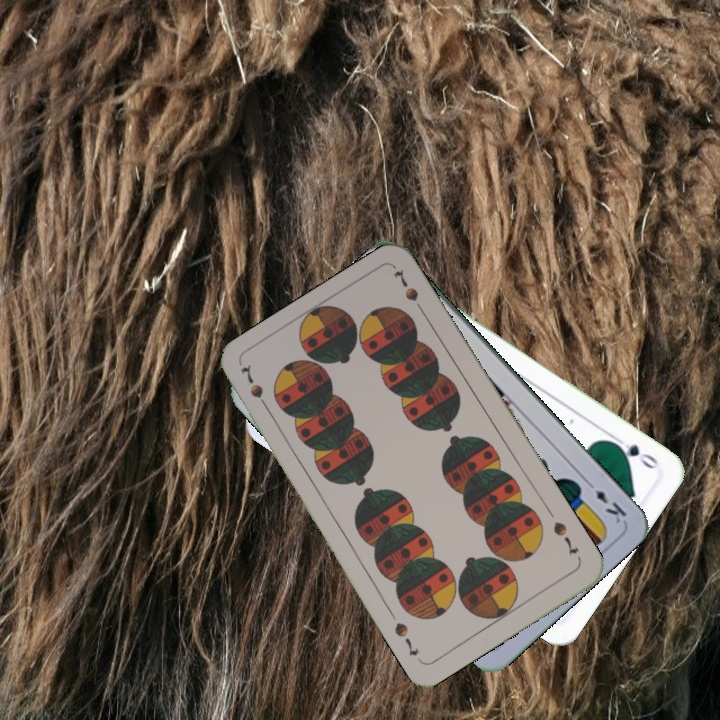EK: (582, 476, 629, 527)
GO: (607, 431, 661, 472)
S7: (236, 361, 274, 416), (549, 517, 582, 558)
